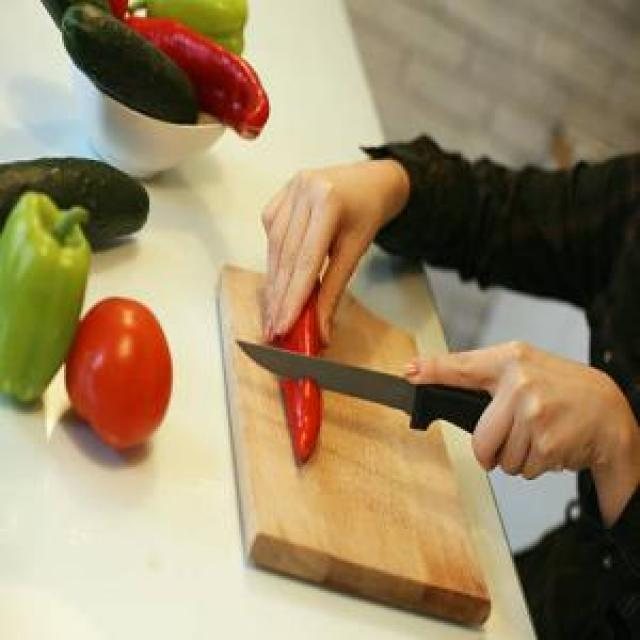knife: (230, 339, 508, 449)
